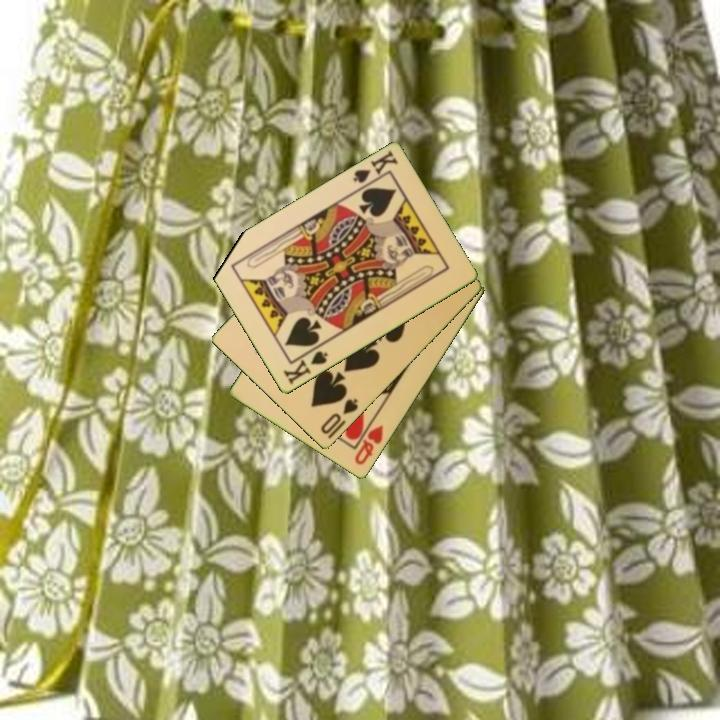10s: (317, 395, 361, 438)
Ks: (349, 147, 401, 193), (279, 348, 331, 388)
Qh: (351, 422, 386, 468)
